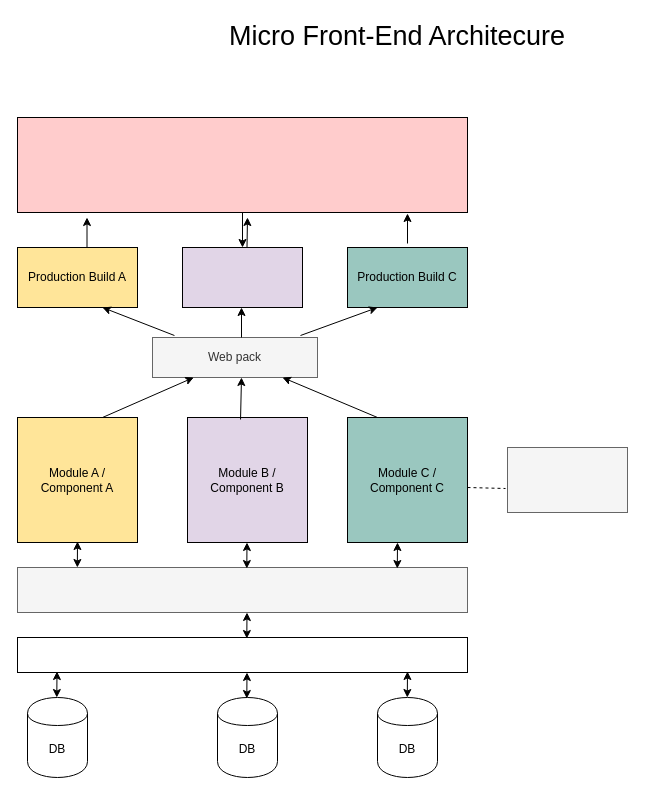
Image size: 645x795. Some labels were removed from this diagram. Each missing label, with the centre of its shape:
Create Git Project Lib: [567,479]
Front End Core(Angular/ReactJS): [242,589]
Production Build B: [242,277]
Web API: [242,654]
Web Page: [242,164]
